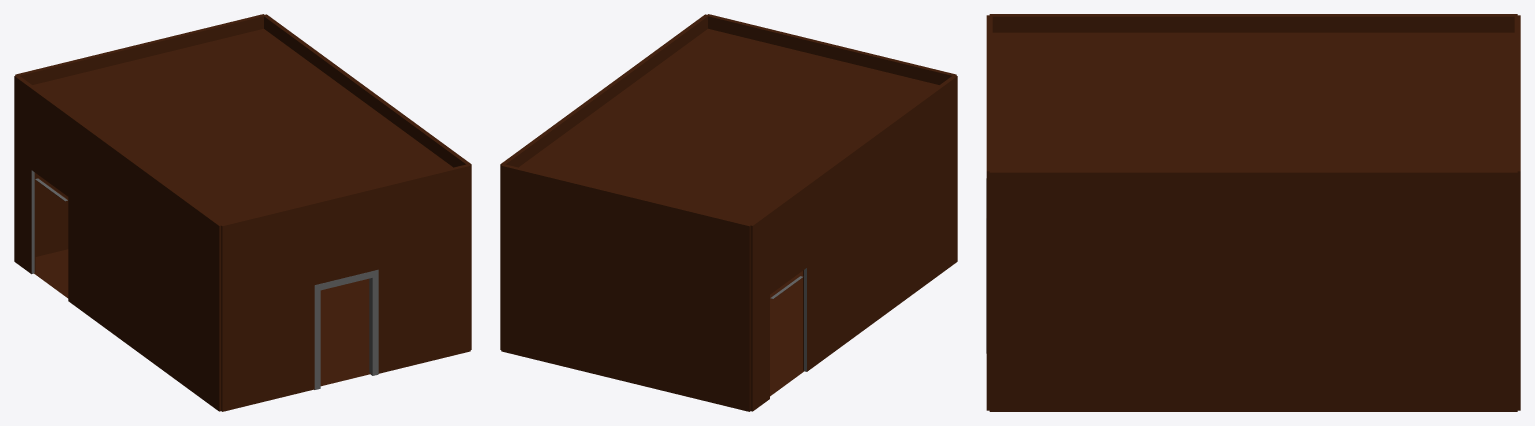
File: room_empty_without_door.glb
3 renders of one model, left to right at view 1: azimuth 30°, elevation 25°; view 2: azimuth 150°, elevation 25°; view 3: azimuth 270°, elevation 25°, orthographic. The views are drawn at different scales.
Parts seen in each view (by area): view 1: Plane.001, Cube.002, Cube, Plane.002, Cube.001, Cube.003, Cube.004; view 2: Cube.001, Plane.001, Cube, Cube.003, Cube.002, Plane.002; view 3: Cube.003, Plane.001, Cube, Cube.002, Cube.001.
Boxes of the visible parts, x1,y1,x2,y2 form: Plane.001: [32, 28, 452, 223]; Cube.002: [220, 164, 470, 411]; Cube: [14, 75, 222, 411]; Plane.002: [34, 249, 370, 386]; Cube.001: [15, 14, 265, 256]; Cube.003: [264, 14, 471, 349]; Cube.004: [314, 269, 378, 389]; Cube.001: [501, 164, 750, 411]; Plane.001: [519, 28, 939, 223]; Cube: [749, 75, 957, 411]; Cube.003: [500, 14, 707, 349]; Cube.002: [706, 14, 956, 84]; Plane.002: [770, 271, 804, 396]; Cube.003: [989, 170, 1517, 411]; Plane.001: [992, 32, 1514, 170]; Cube: [989, 14, 1517, 32]; Cube.002: [986, 15, 992, 410]; Cube.001: [1514, 15, 1520, 410].
Bounding box in the file's own units: 14.23 × 10.04 × 20.24.
